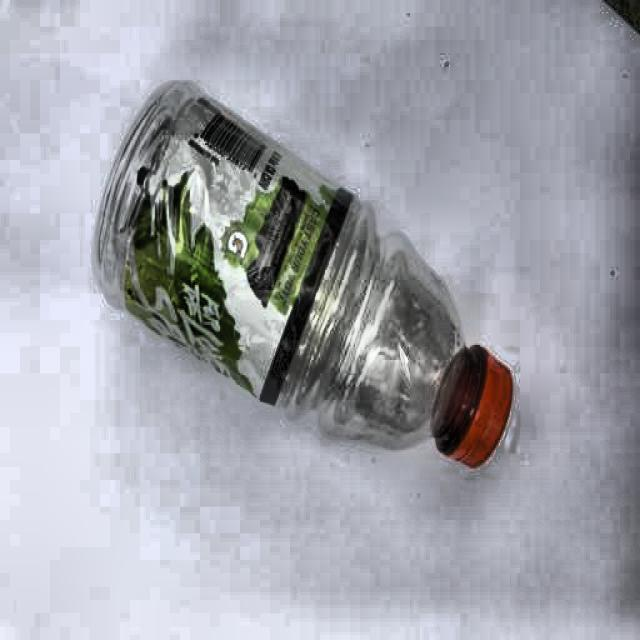plastic: (95, 82, 513, 472)
